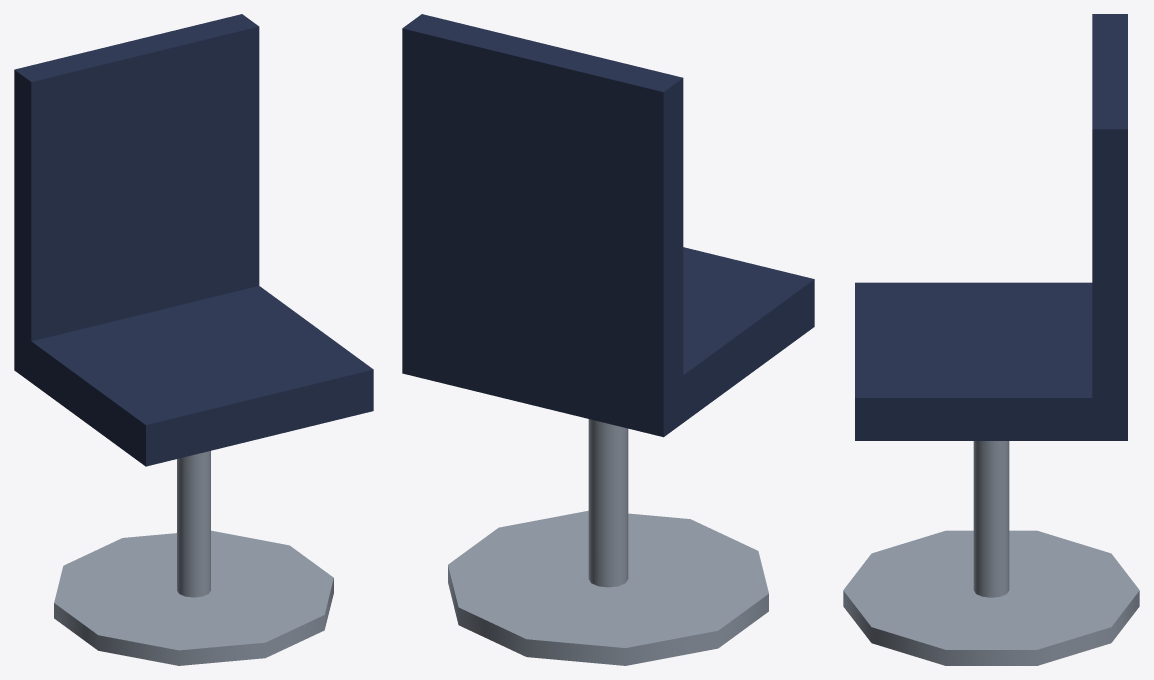
Rendered from chair.glb.
The picture shows the model from 3 angles, left to right: view 1: azimuth 30°, elevation 25°; view 2: azimuth 150°, elevation 25°; view 3: azimuth 270°, elevation 25°; orthographic projection. The views are drawn at different scales.
Visible parts, largest first — view 1: back, seat, chair; view 2: back, chair, seat; view 3: seat, chair, back.
Part boxes in pixels (box(x1,y1,x2,y2)): back: box(14, 14, 259, 341); seat: box(14, 286, 373, 466); chair: box(54, 451, 333, 665); back: box(402, 14, 683, 389); chair: box(448, 419, 768, 665); seat: box(402, 247, 814, 437); seat: box(855, 282, 1127, 440); chair: box(843, 441, 1139, 665); back: box(1092, 14, 1127, 397).
Bounding box in the file's own units: 0.4755 × 1 × 0.5.
